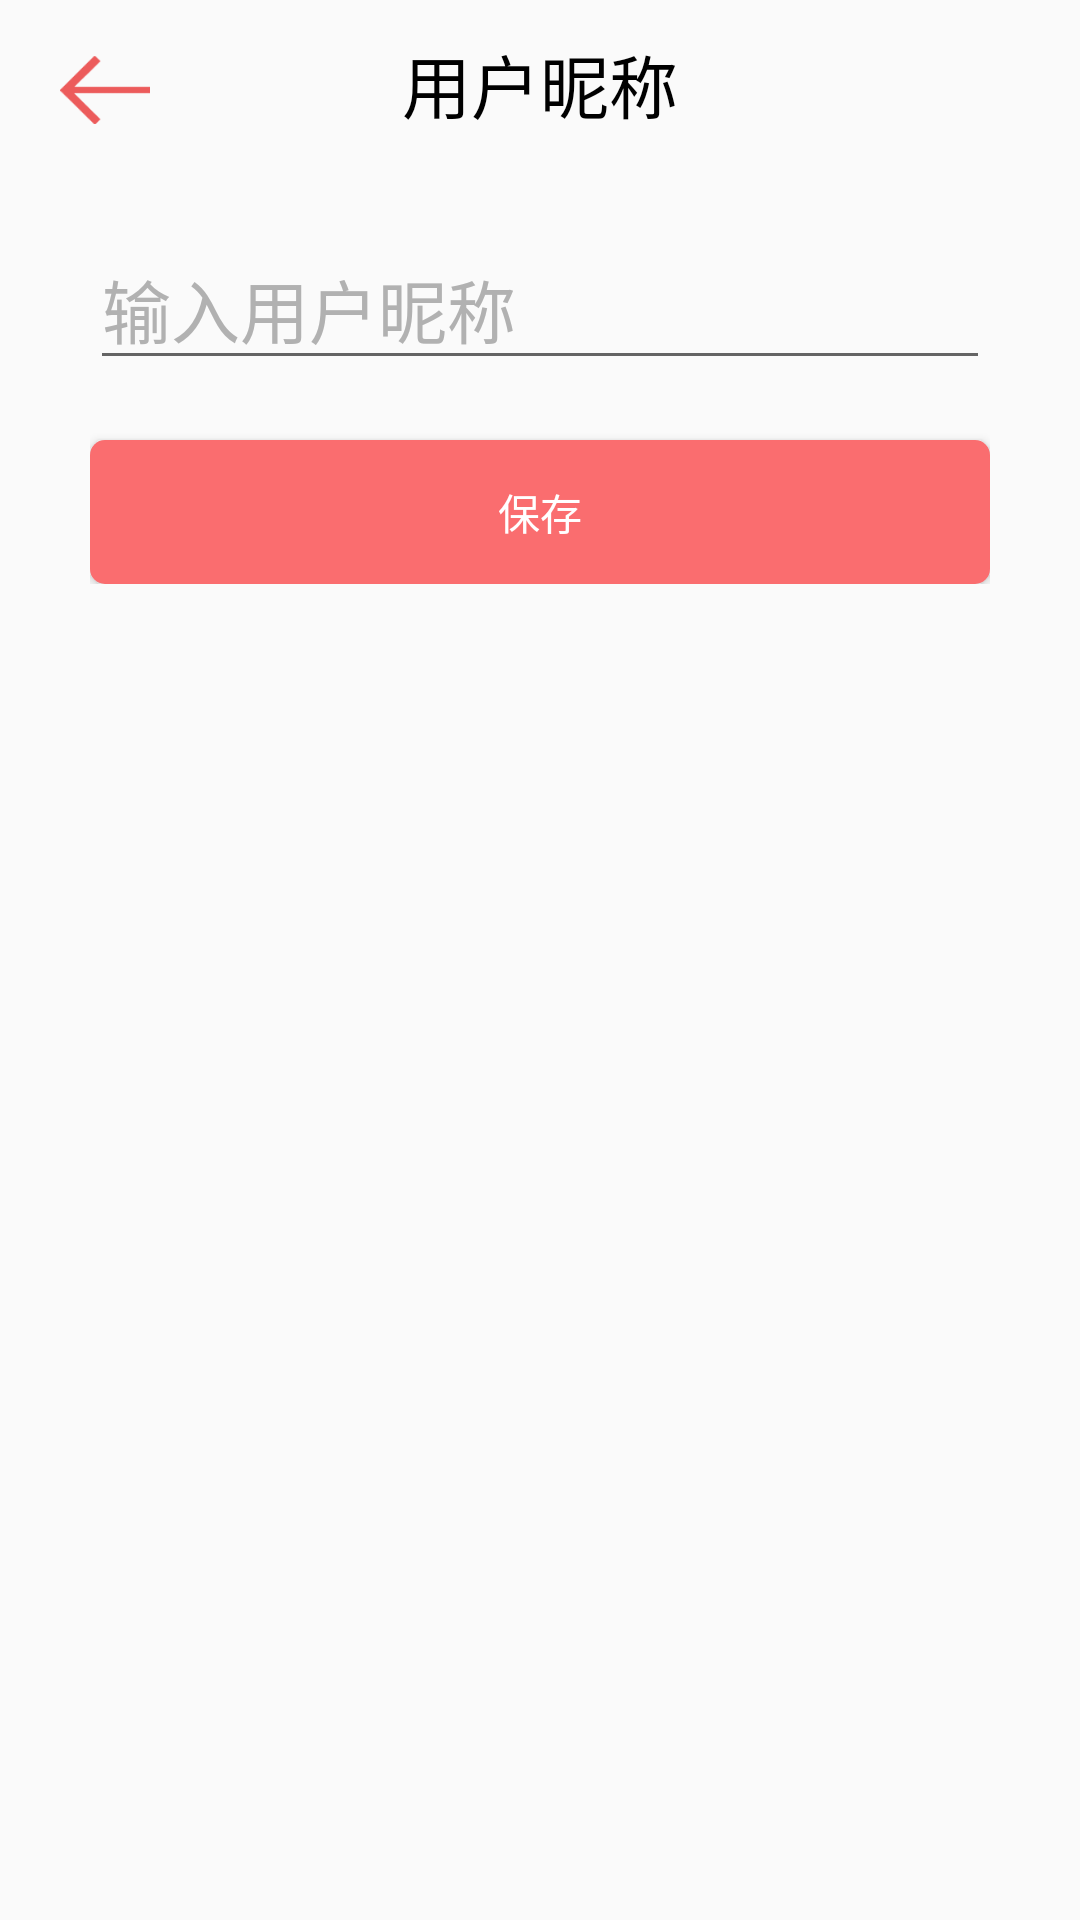

Where icons sit on this 1080 x 1920 app screen, as region(x1, y1, x2, y2):
return: region(60, 56, 150, 124)
